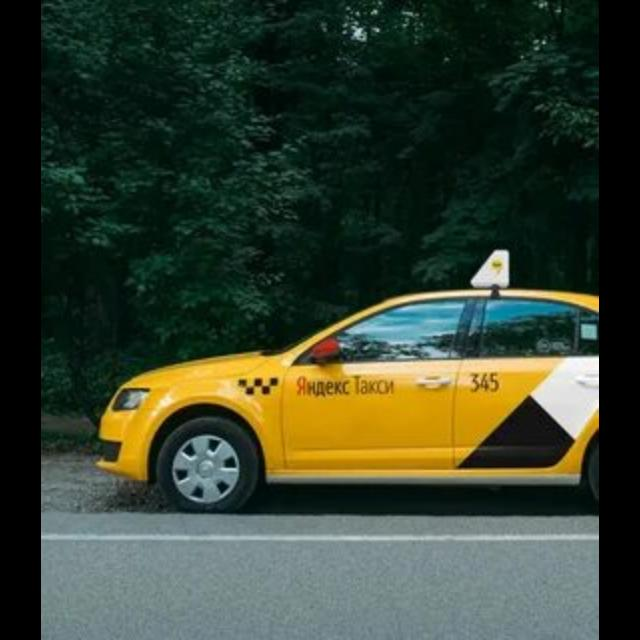taxi: (94, 247, 598, 515)
